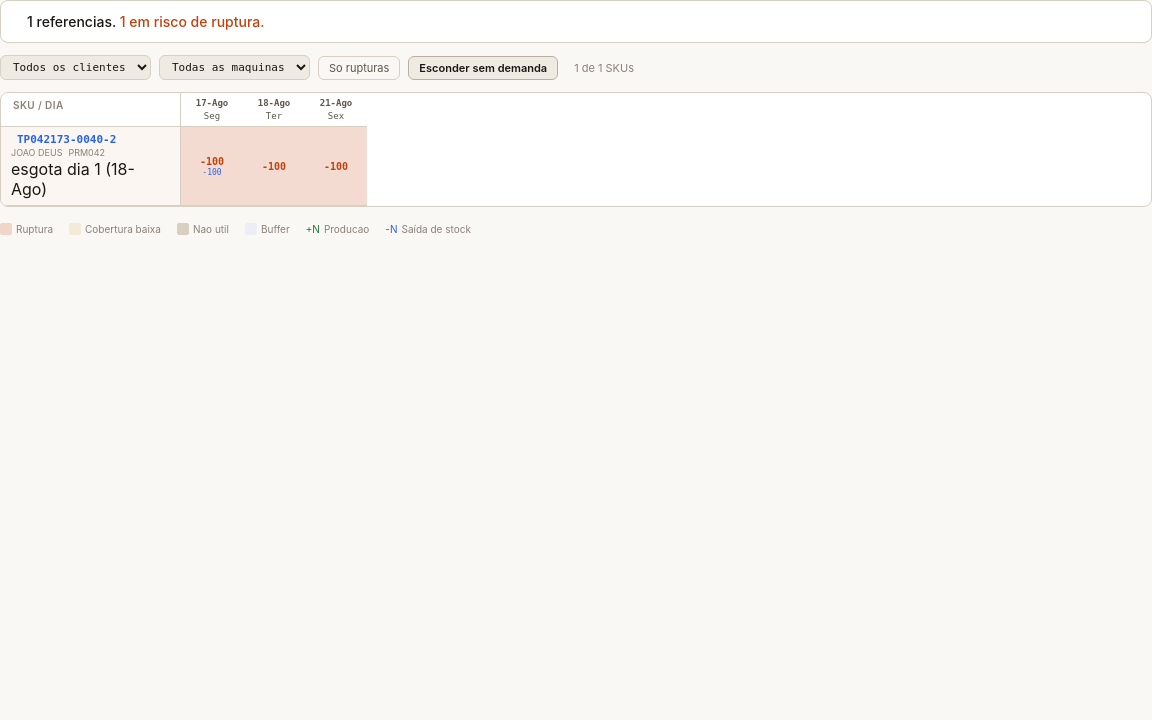
Test: StockPage › usa a mesma data na grelha e no resumo do modal
Expected: the text "esgota dia 1 (18-Ago)" is shown, 11,159 -> 135,199
What coordinates should you click on to do the following:
click the text "TP042173-0040-2"
I would click on:
 (67, 140)
Its box is 17,133 -> 116,146.
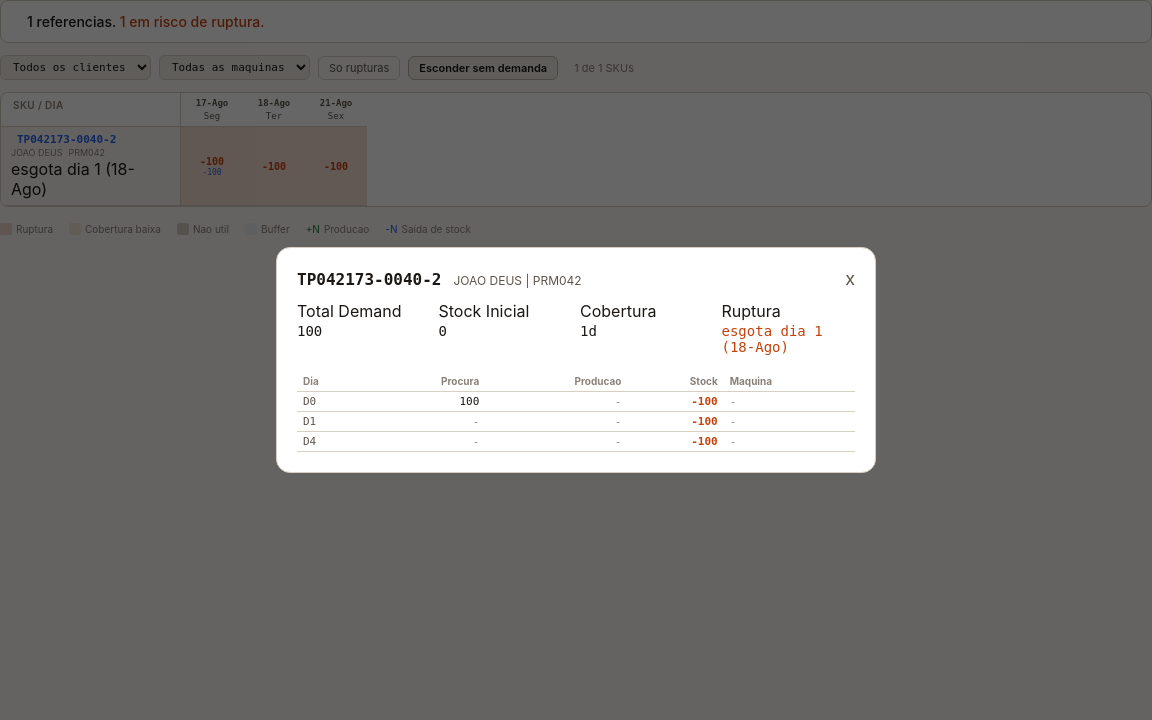
Now the text "esgota dia 1 (18-Ago)" is shown 2 times, box 11,159 -> 135,199; 722,323 -> 823,355
